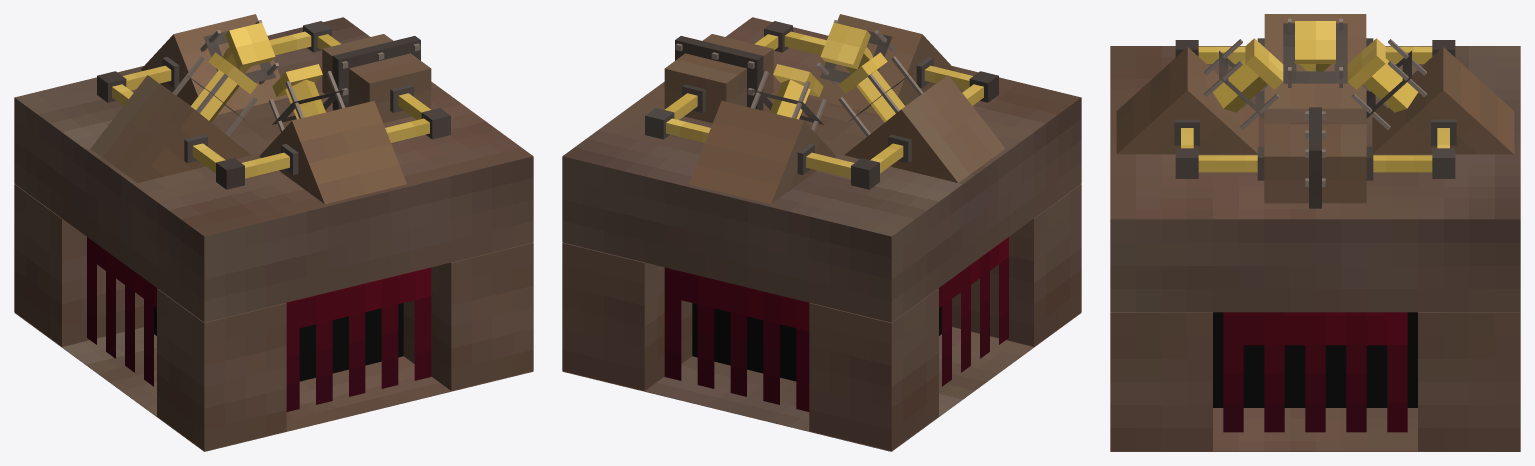
Rendered from item_splitter.obj.
The picture shows the model from 3 angles, left to right: view 1: azimuth 30°, elevation 25°; view 2: azimuth 150°, elevation 25°; view 3: azimuth 270°, elevation 25°; orthographic projection. The views are drawn at different scales.
Size of the model in its own units: 1 by 0.8564 by 1.
